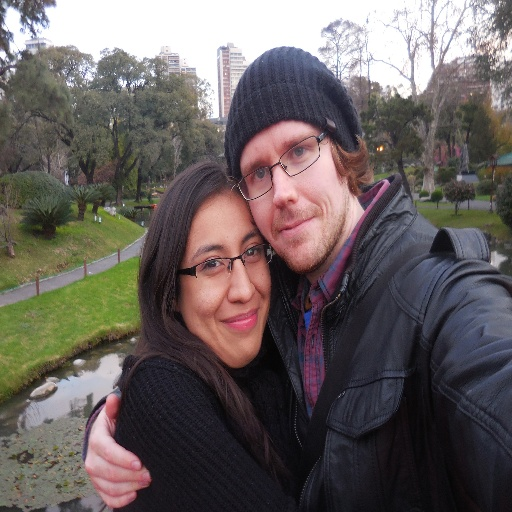hand: (79, 408, 148, 511)
